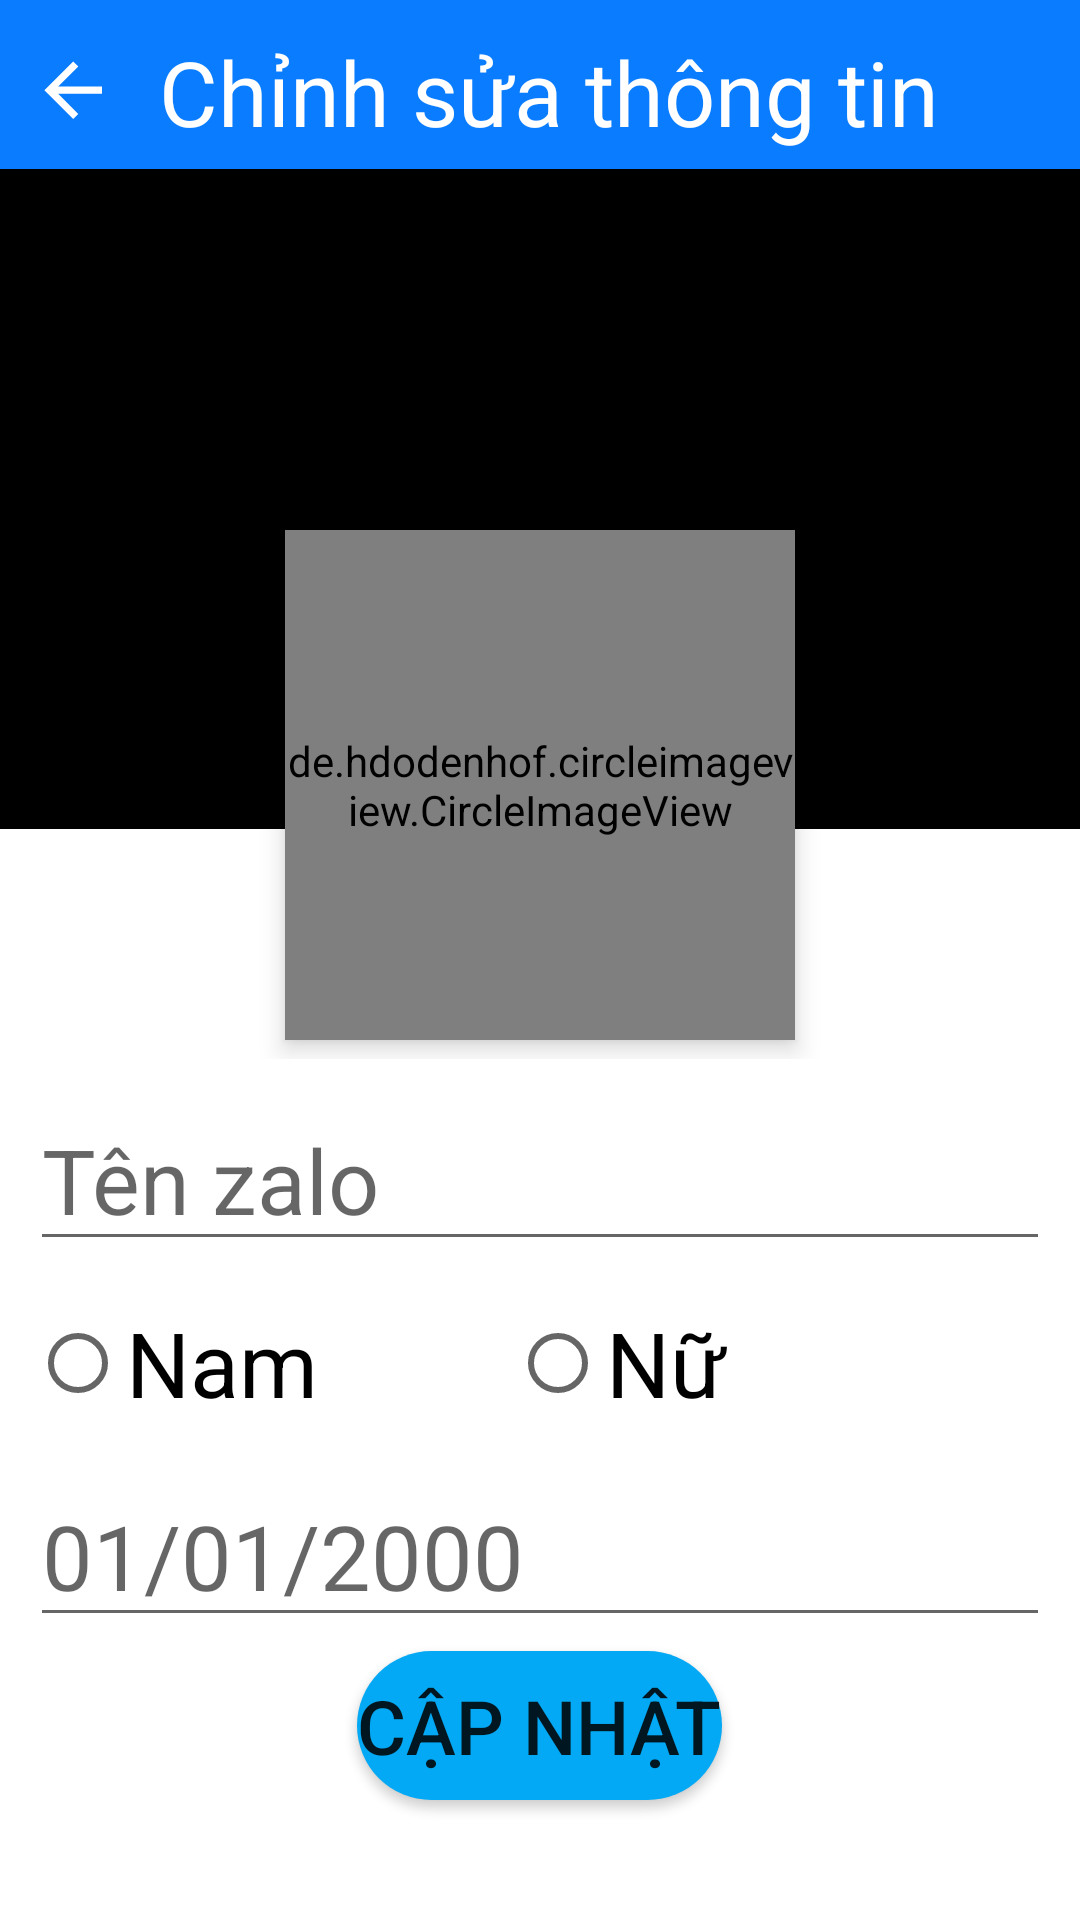

Named icons in this screenshot (1080px×1920px) and their centers, (x=x, y=y):
back: (x=73, y=90)
